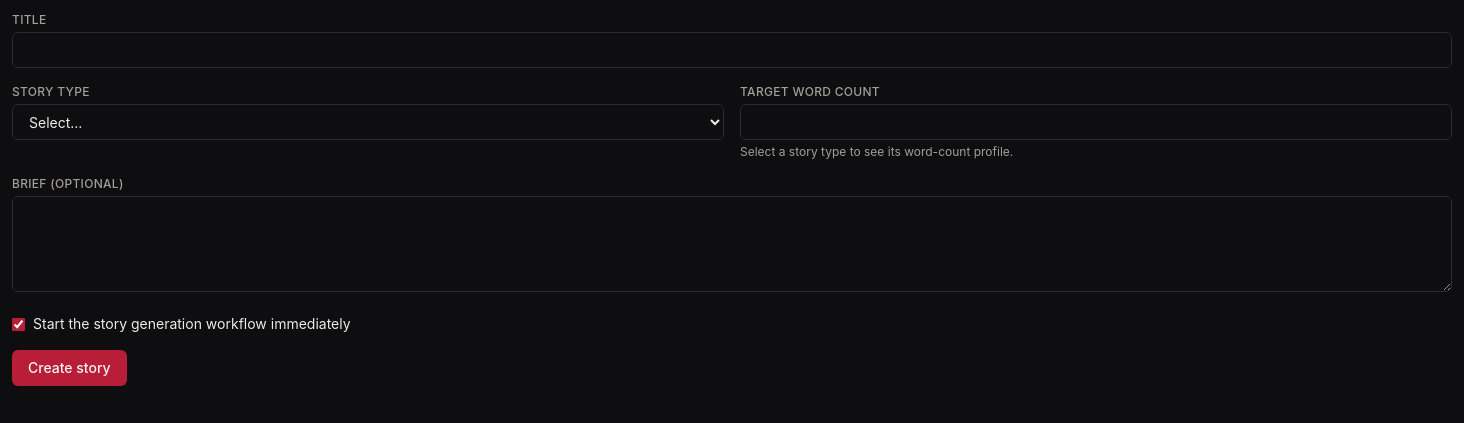
Test: CreateStoryForm › validates required fields
The image size is (1464, 423).
Click the button "Create story" at (69, 368), box x1=12 y1=350 x2=127 y2=386
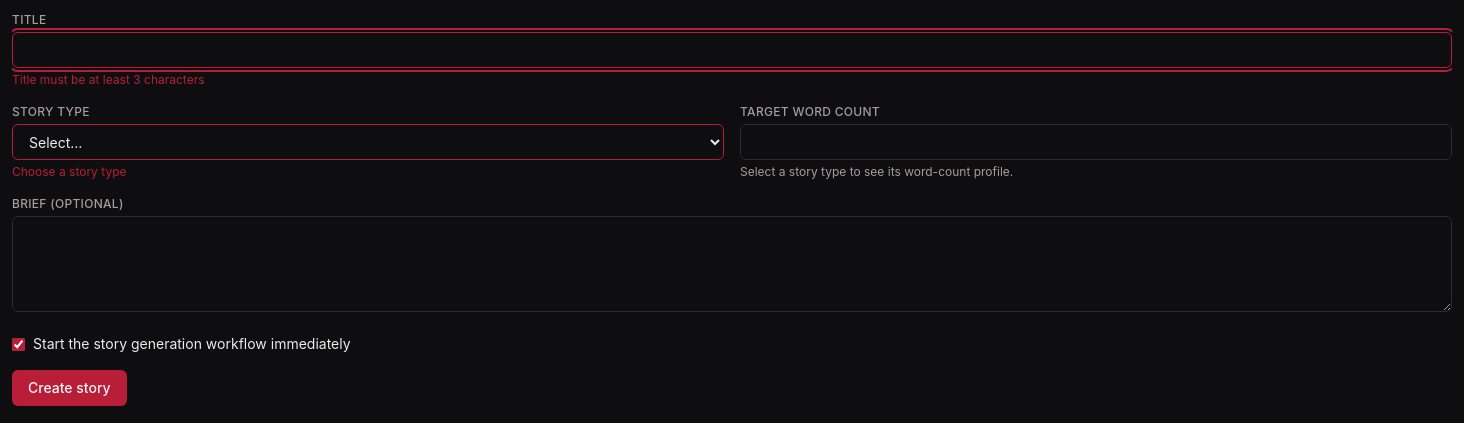
Now the text "Title must be at least 3 characters" is shown, box x1=12 y1=72 x2=204 y2=87
Now the text "Choose a story type" is shown, box x1=12 y1=164 x2=126 y2=179
